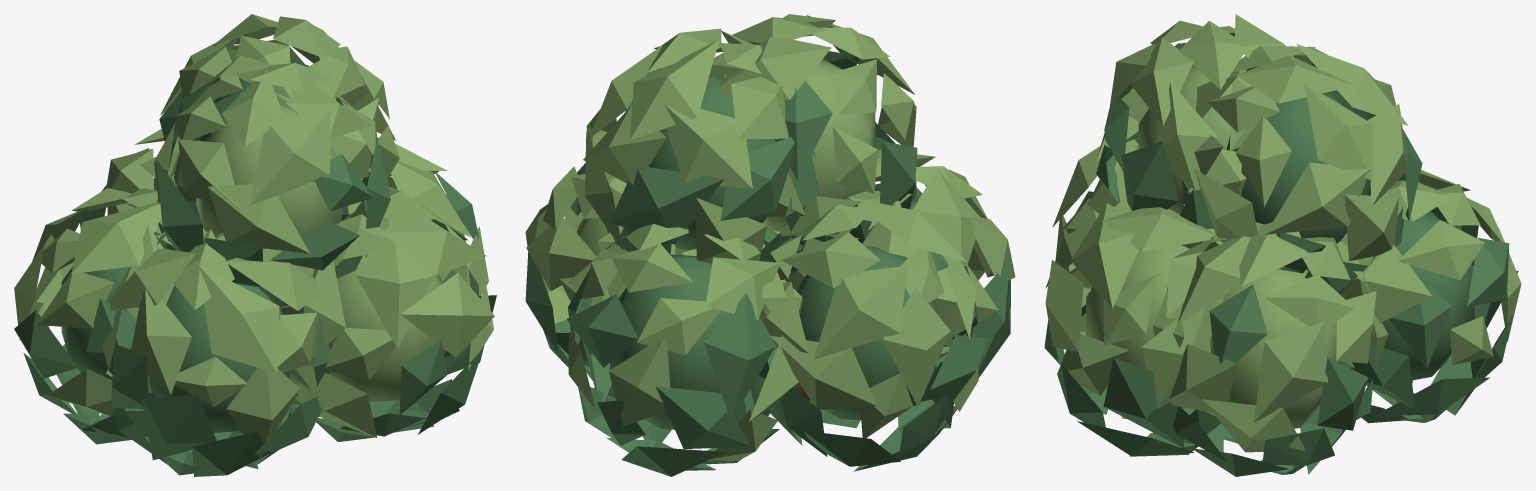
File: shrub.small-new.glb
3 views of the same model, side by side, from view 1: azimuth 30°, elevation 25°; view 2: azimuth 150°, elevation 25°; view 3: azimuth 270°, elevation 25° (orthographic). The views are drawn at different scales.
Visible parts, largest first — view 1: Low woody shoot; view 2: Low woody shoot; view 3: Low woody shoot.
Boxes of the visible parts, left/top/right/bottom form: Low woody shoot: left=14, top=14, right=496, bottom=476; Low woody shoot: left=525, top=14, right=1015, bottom=476; Low woody shoot: left=1044, top=14, right=1521, bottom=476.
Size of the model in its own units: 0.6279 by 0.5182 by 0.5844.
